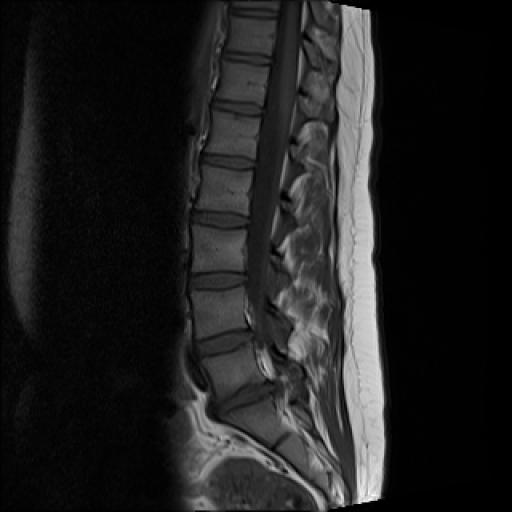L1: (205, 109, 261, 158)
L2: (196, 164, 253, 214)
L3: (192, 226, 244, 272)
L4: (192, 286, 247, 340)
L5: (201, 341, 267, 402)
S1: (221, 394, 293, 447)
